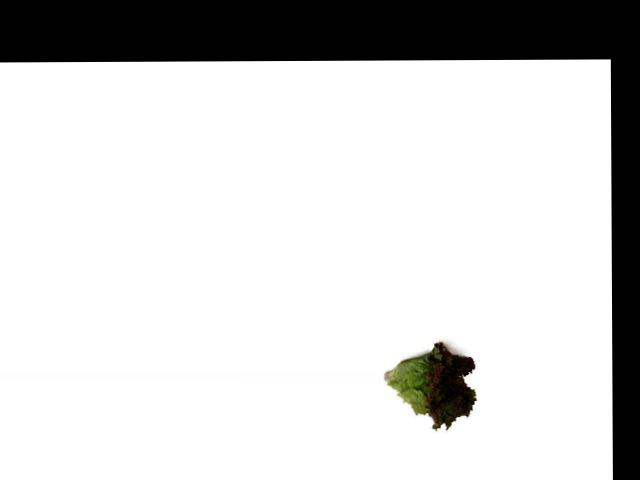lettuce: (381, 334, 488, 434)
